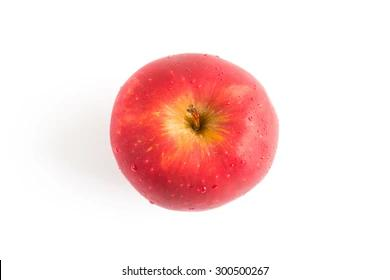apple: (108, 52, 282, 215)
